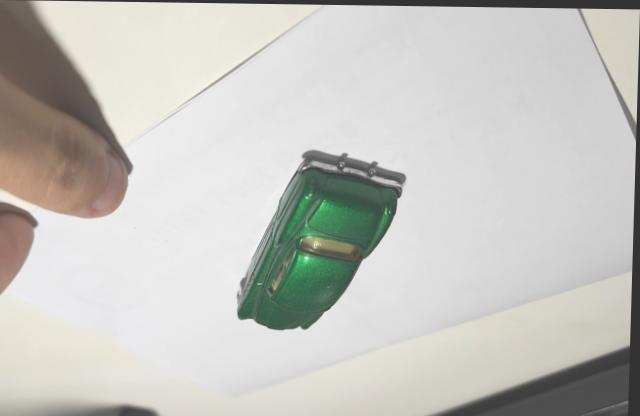06_MASERATI: (238, 152, 408, 329)
